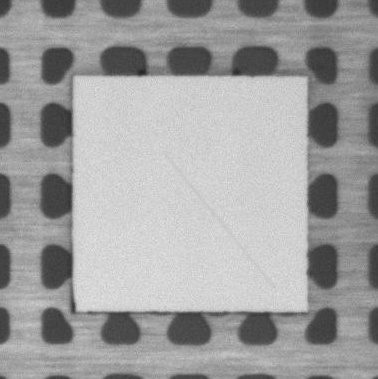DIE_CRACK: (165, 154, 273, 288)
